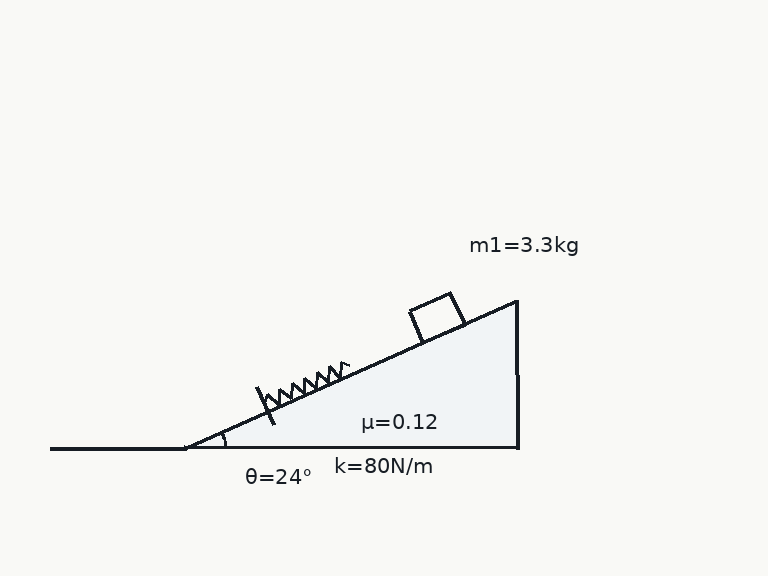block: (406, 290, 467, 344)
ramp: (183, 299, 518, 450)
spring: (262, 359, 352, 406)
